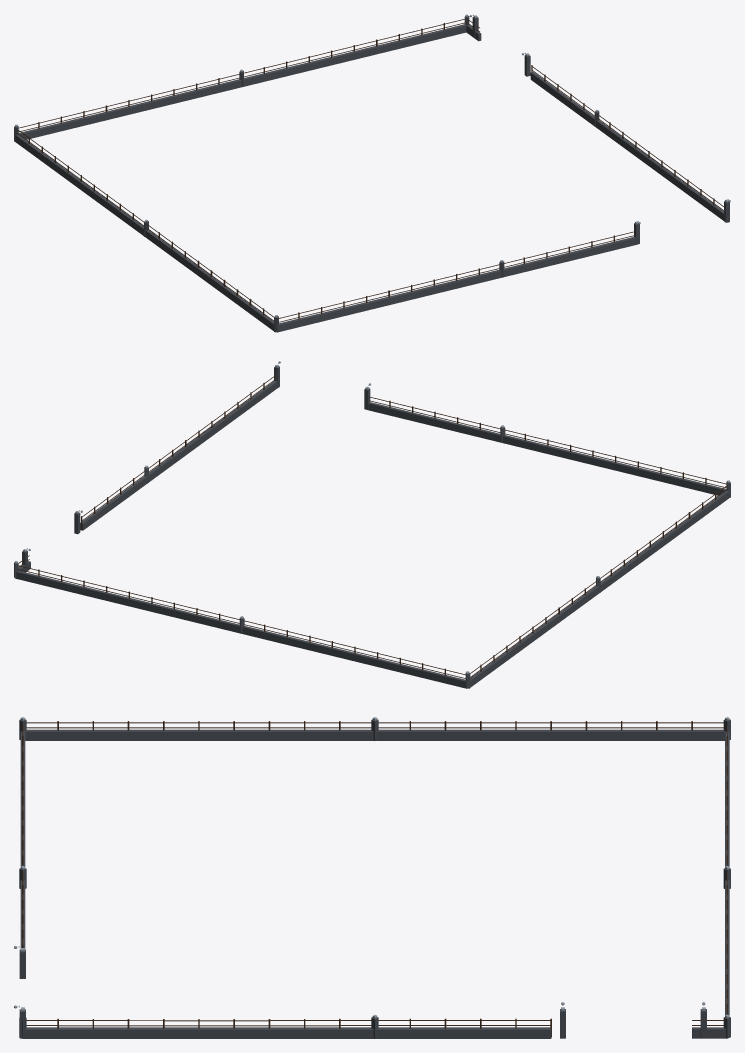
Rendered from Hut_Fence_0_-2.fbx.
The picture shows the model from 3 angles, top to bottom: view 1: azimuth 30°, elevation 25°; view 2: azimuth 150°, elevation 25°; view 3: azimuth 270°, elevation 25°; orthographic projection. The views are drawn at different scales.
Parts seen in each view (by area): view 1: Hut_Fence_0_-2; view 2: Hut_Fence_0_-2; view 3: Hut_Fence_0_-2.
Boxes of the visible parts, x1,y1,x2,y2 form: Hut_Fence_0_-2: (14, 14, 730, 332); Hut_Fence_0_-2: (14, 361, 730, 688); Hut_Fence_0_-2: (14, 717, 730, 1038).
Size of the model in its own units: 6062 by 310 by 6107.
